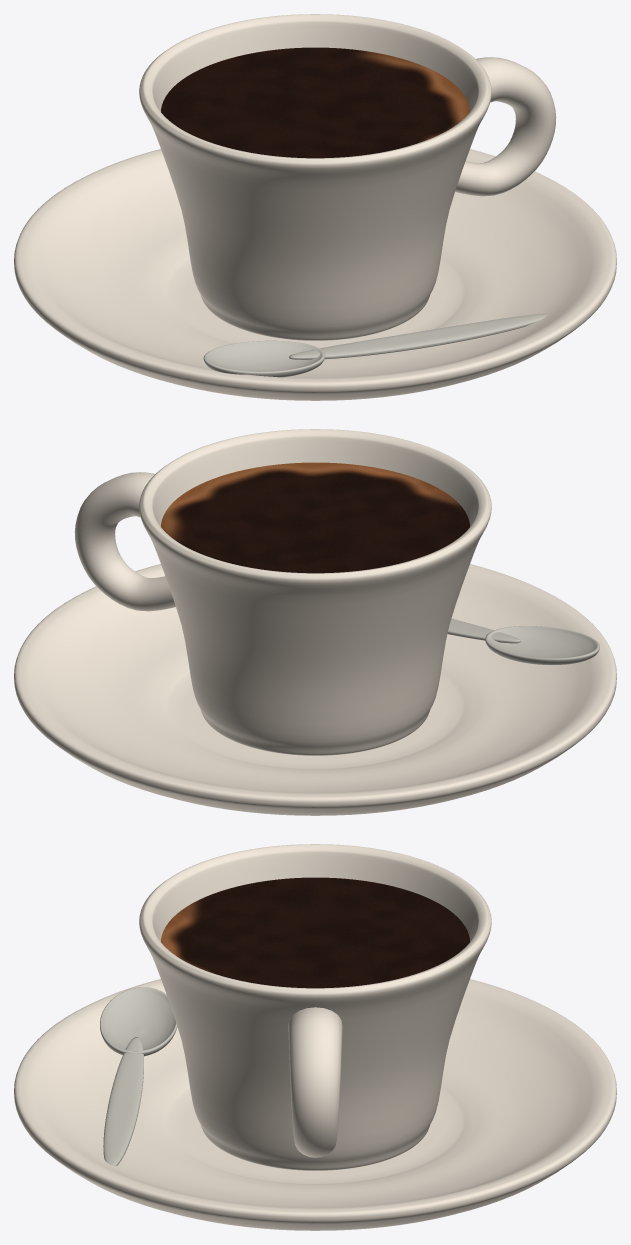
Rendered from alba-americano.glb.
3 renders of one model, top to bottom at view 1: azimuth 30°, elevation 25°; view 2: azimuth 150°, elevation 25°; view 3: azimuth 270°, elevation 25°, orthographic.
Parts seen in each view (by area): view 1: Saucer • recessed well and rounded foot, Cup • porcelain wall, rolled lip and interior, Liquid surface • curved meniscus, Cup handle • molded ceramic, Teaspoon • tapered grip, Teaspoon • pressed bowl; view 2: Saucer • recessed well and rounded foot, Cup • porcelain wall, rolled lip and interior, Liquid surface • curved meniscus, Cup handle • molded ceramic, Teaspoon • pressed bowl, Teaspoon • tapered grip; view 3: Saucer • recessed well and rounded foot, Cup • porcelain wall, rolled lip and interior, Liquid surface • curved meniscus, Cup handle • molded ceramic, Teaspoon • pressed bowl, Teaspoon • tapered grip.
Boxes of the visible parts, left/top/right/bottom form: Saucer • recessed well and rounded foot: left=14, top=149, right=616, bottom=400; Cup • porcelain wall, rolled lip and interior: left=139, top=14, right=491, bottom=340; Liquid surface • curved meniscus: left=161, top=47, right=469, bottom=158; Cup handle • molded ceramic: left=455, top=57, right=556, bottom=196; Teaspoon • tapered grip: left=289, top=313, right=547, bottom=359; Teaspoon • pressed bowl: left=203, top=340, right=325, bottom=377; Saucer • recessed well and rounded foot: left=14, top=564, right=616, bottom=815; Cup • porcelain wall, rolled lip and interior: left=139, top=429, right=491, bottom=755; Liquid surface • curved meniscus: left=161, top=462, right=469, bottom=573; Cup handle • molded ceramic: left=74, top=472, right=175, bottom=611; Teaspoon • pressed bowl: left=485, top=626, right=599, bottom=664; Teaspoon • tapered grip: left=447, top=618, right=520, bottom=643; Saucer • recessed well and rounded foot: left=14, top=979, right=616, bottom=1230; Cup • porcelain wall, rolled lip and interior: left=139, top=844, right=491, bottom=1170; Liquid surface • curved meniscus: left=161, top=877, right=469, bottom=988; Cup handle • molded ceramic: left=288, top=1007, right=342, bottom=1157; Teaspoon • pressed bowl: left=100, top=987, right=177, bottom=1056; Teaspoon • tapered grip: left=103, top=1037, right=143, bottom=1166.
Bounding box in the file's own units: 0.154 × 0.063 × 0.154.
3 materials, 1 textured.
